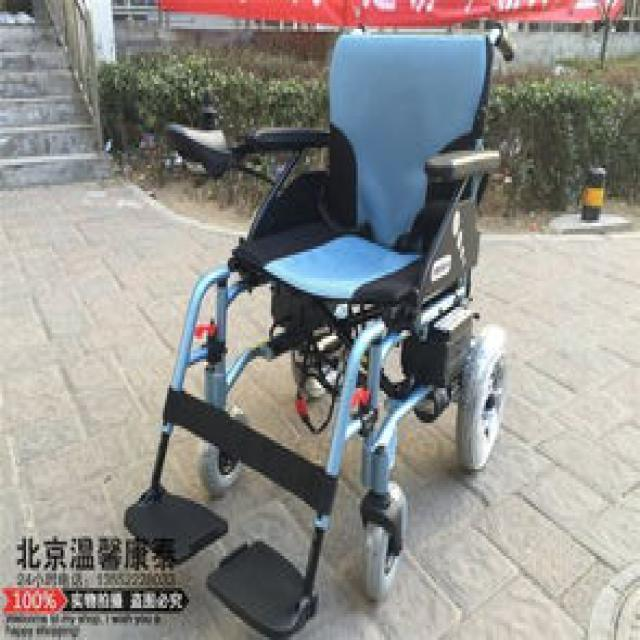wheelchairs: (135, 25, 509, 638)
